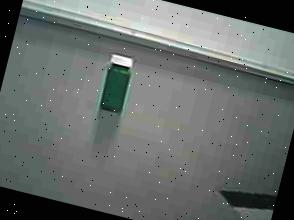Bottle C: (91, 48, 145, 122)
